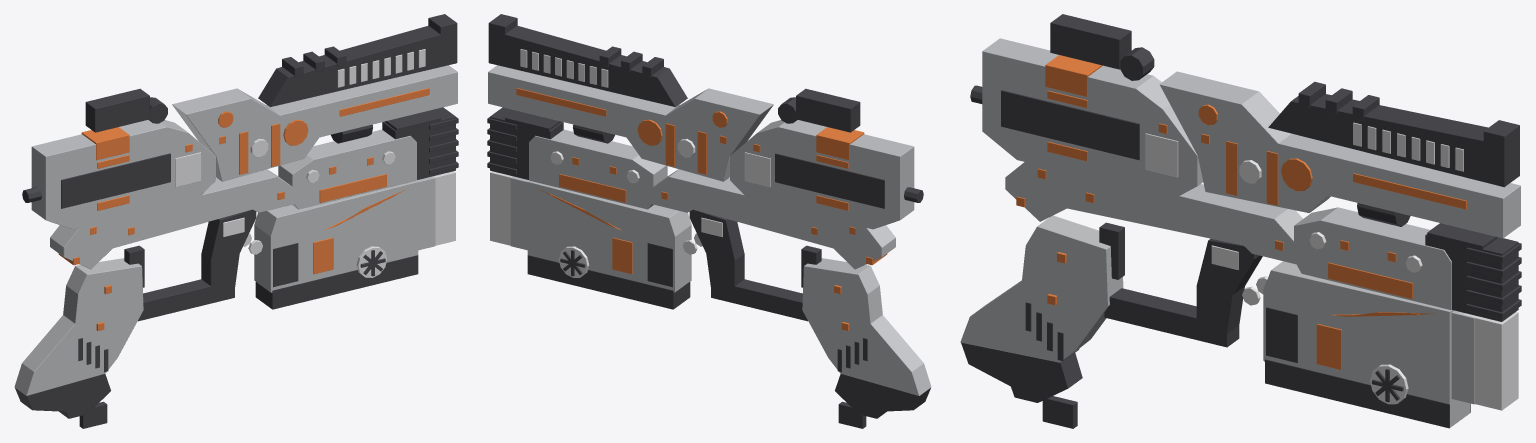
Rendered from Pistolita 2_by sebita.fbx.
The picture shows the model from 3 angles, left to right: view 1: azimuth 30°, elevation 25°; view 2: azimuth 150°, elevation 25°; view 3: azimuth 330°, elevation 25°; orthographic projection. The views are drawn at different scales.
Parts seen in each view (by area): view 1: Pistola_SciFi_LowPoly; view 2: Pistola_SciFi_LowPoly; view 3: Pistola_SciFi_LowPoly.
Part boxes in pixels (x1,y1,x2,y2): Pistola_SciFi_LowPoly: [14, 14, 458, 428]; Pistola_SciFi_LowPoly: [487, 14, 931, 428]; Pistola_SciFi_LowPoly: [960, 14, 1521, 428].
Size of the model in its own units: 1415 by 1005 by 123.
